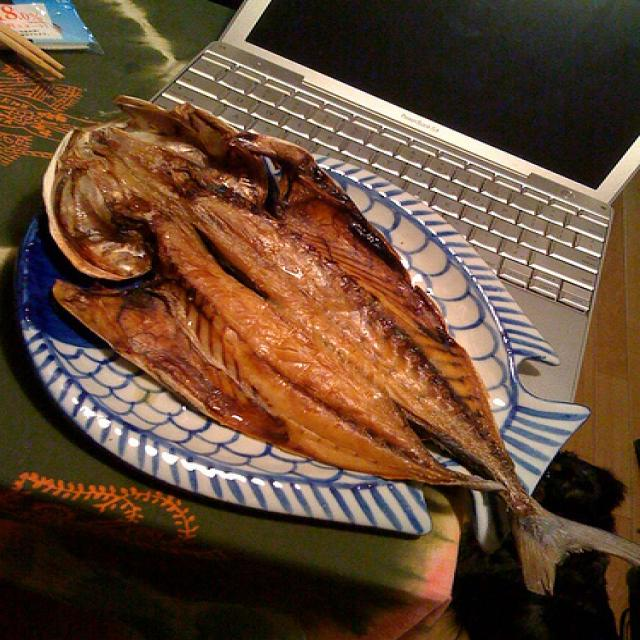熟制海鲜: (34, 90, 640, 592)
